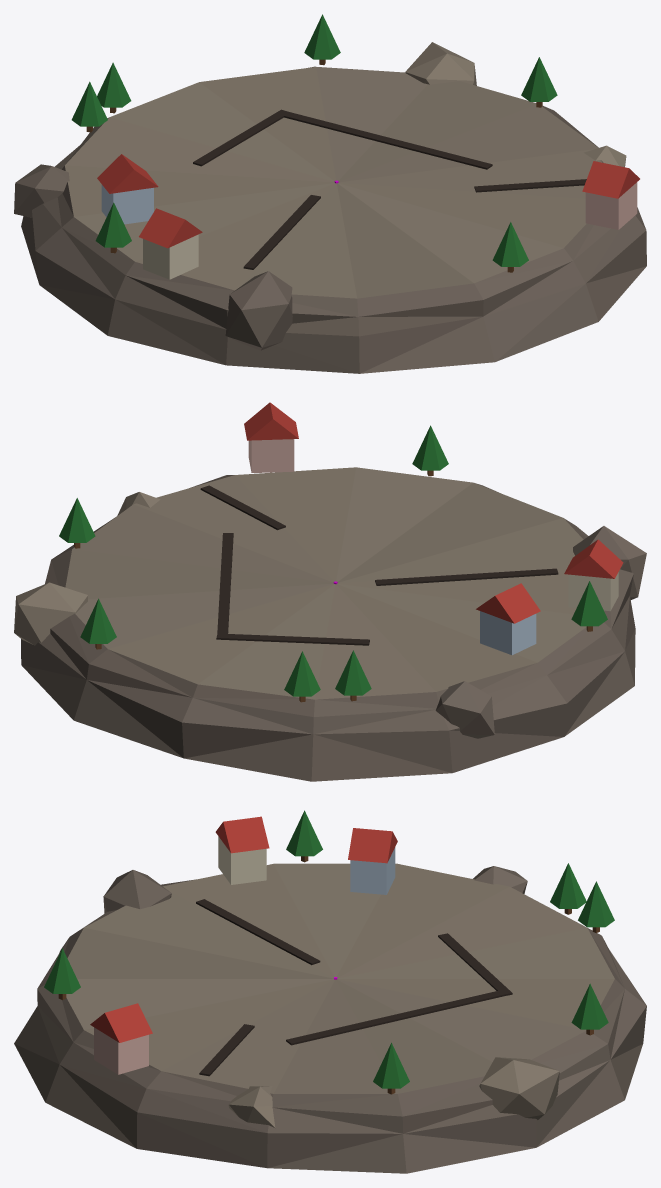
Rendered from Platform_GiantShiba.fbx.
3 views of the same model, one above another, from view 1: azimuth 30°, elevation 25°; view 2: azimuth 150°, elevation 25°; view 3: azimuth 270°, elevation 25° (orthographic).
Parts seen in each view (by area): view 1: Body; view 2: Body; view 3: Body.
Part boxes in pixels (<box>): Body: <box>14,14,646,373</box>; Body: <box>14,402,646,781</box>; Body: <box>14,810,646,1173</box>.
Size of the model in its own units: 20.07 by 4.25 by 20.39.
